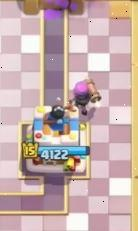OFirecrack: (69, 79, 101, 115)
OwnPrincessTower: (24, 105, 85, 172)
